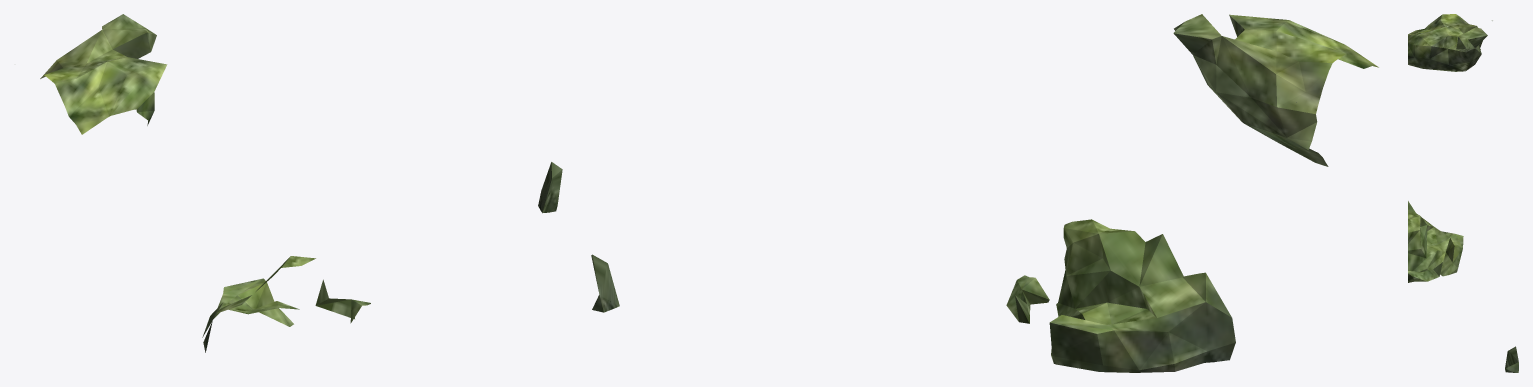
The picture shows the model from 3 angles, left to right: view 1: azimuth 30°, elevation 25°; view 2: azimuth 150°, elevation 25°; view 3: azimuth 270°, elevation 25°; orthographic projection. The views are drawn at different scales.
Bounding box in the file's own units: 19.62 × 10.58 × 5.33.
Materials: 1 (1 with a texture image).
